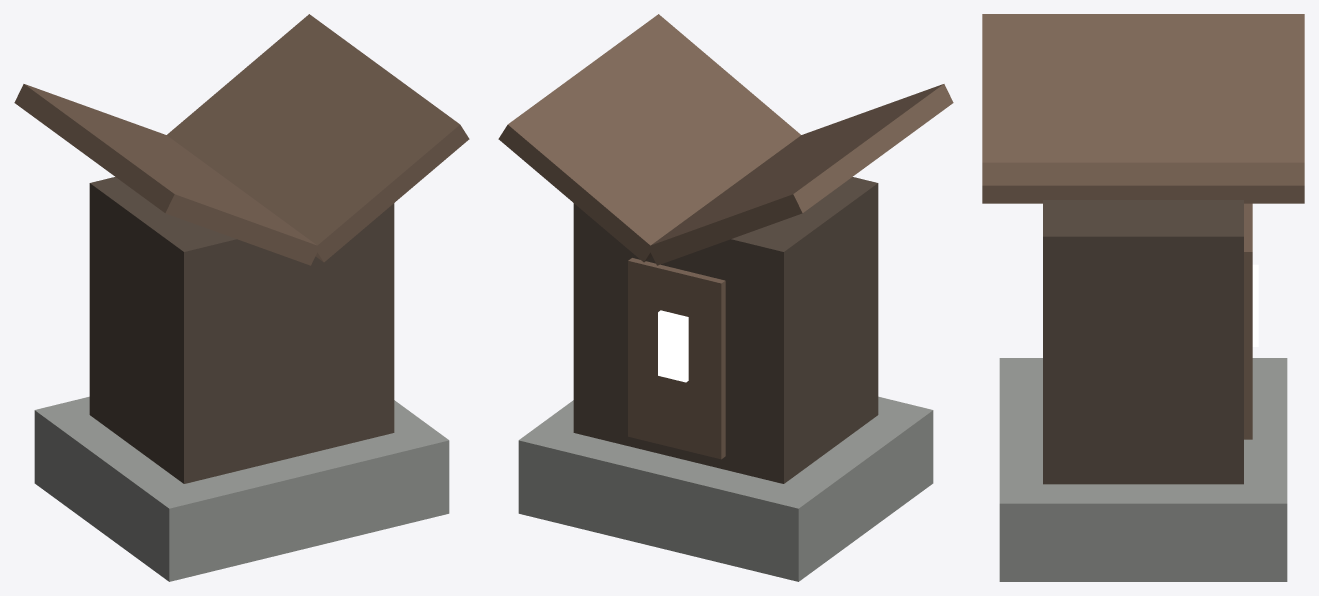
The model's file is prop_hokora.glb.
3 views of the same model, side by side, from view 1: azimuth 30°, elevation 25°; view 2: azimuth 150°, elevation 25°; view 3: azimuth 270°, elevation 25° (orthographic). The views are drawn at different scales.
Parts seen in each view (by area): view 1: hokora; view 2: hokora; view 3: hokora.
Boxes of the visible parts, x1=… form: hokora: x1=14, y1=14, x2=469, y2=581; hokora: x1=498, y1=14, x2=953, y2=581; hokora: x1=982, y1=14, x2=1304, y2=581.
Size of the model in its own units: 1.3 by 1.61 by 1.12.
